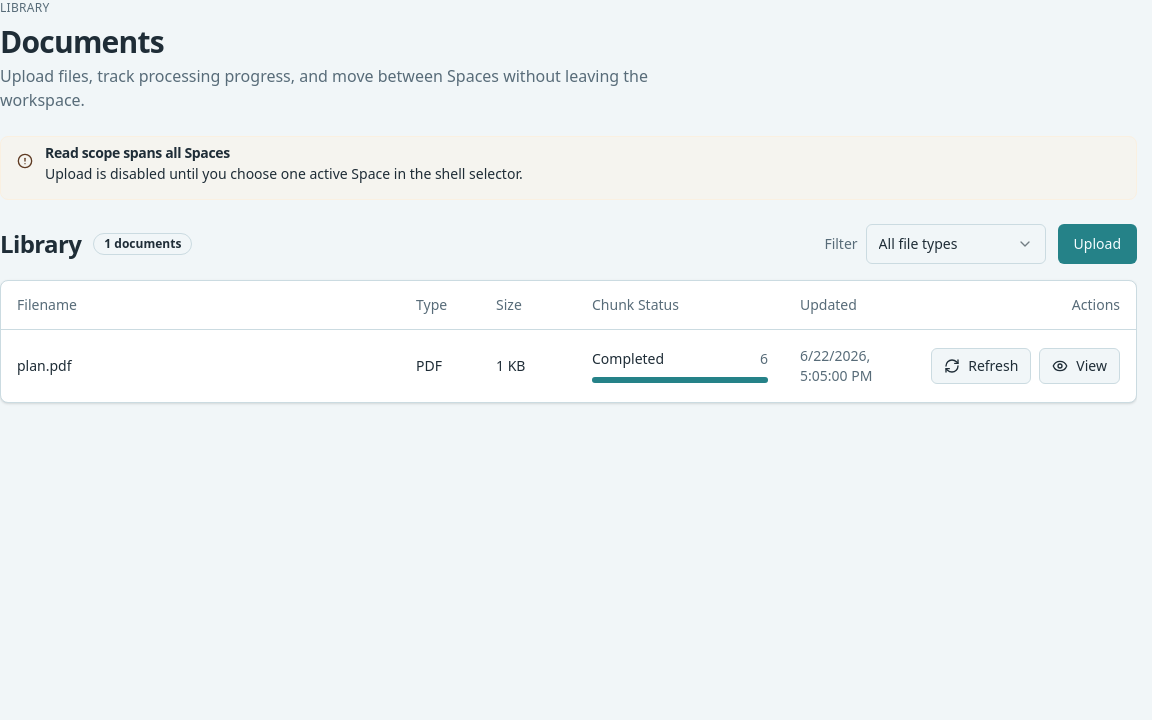
Test: DocumentsPage › opens a disabled upload modal when all Spaces are active
expect the heading "Read scope spans all Spaces" is shown: met, box left=45, top=143, right=230, bottom=162
What coordinates should you click on to do the following:
click the button "Upload"
I would click on:
 (1097, 244)
Its box is left=1058, top=224, right=1137, bottom=264.
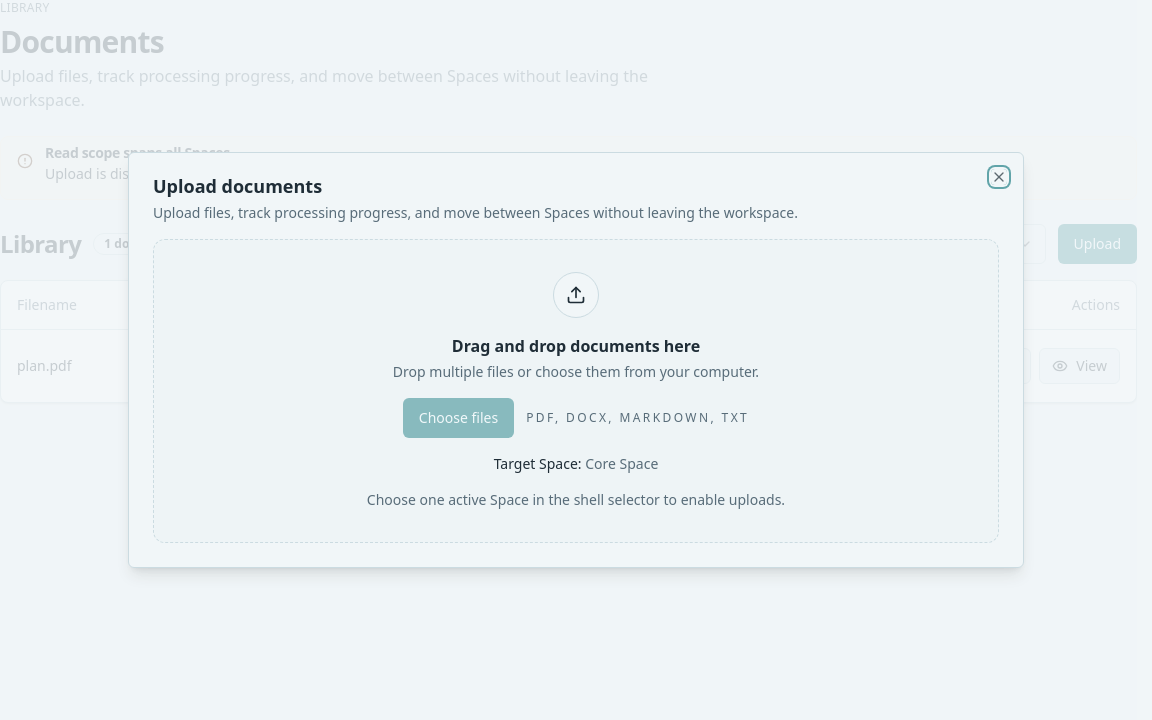
expect the text "Choose one active Space in the shell selector to enable uploads." is shown: met, box left=367, top=490, right=785, bottom=510
expect the button "Choose files" is disabled: met, box left=403, top=398, right=514, bottom=438
